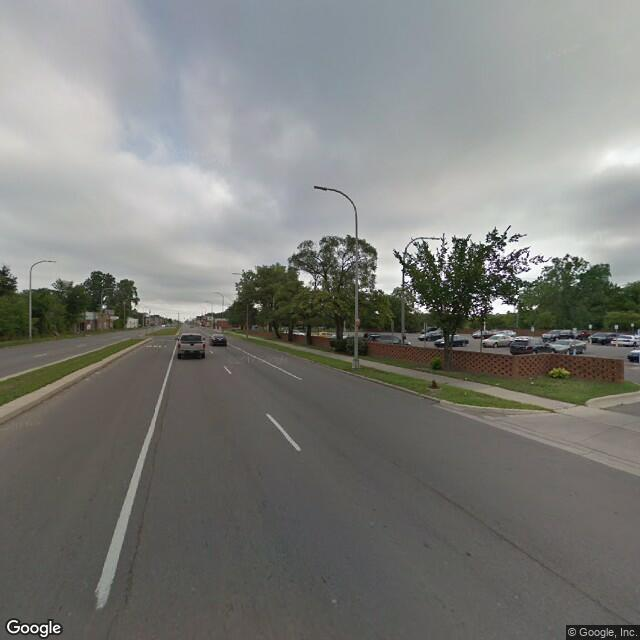litter: (461, 375, 469, 381), (495, 381, 500, 386), (530, 380, 535, 384)
